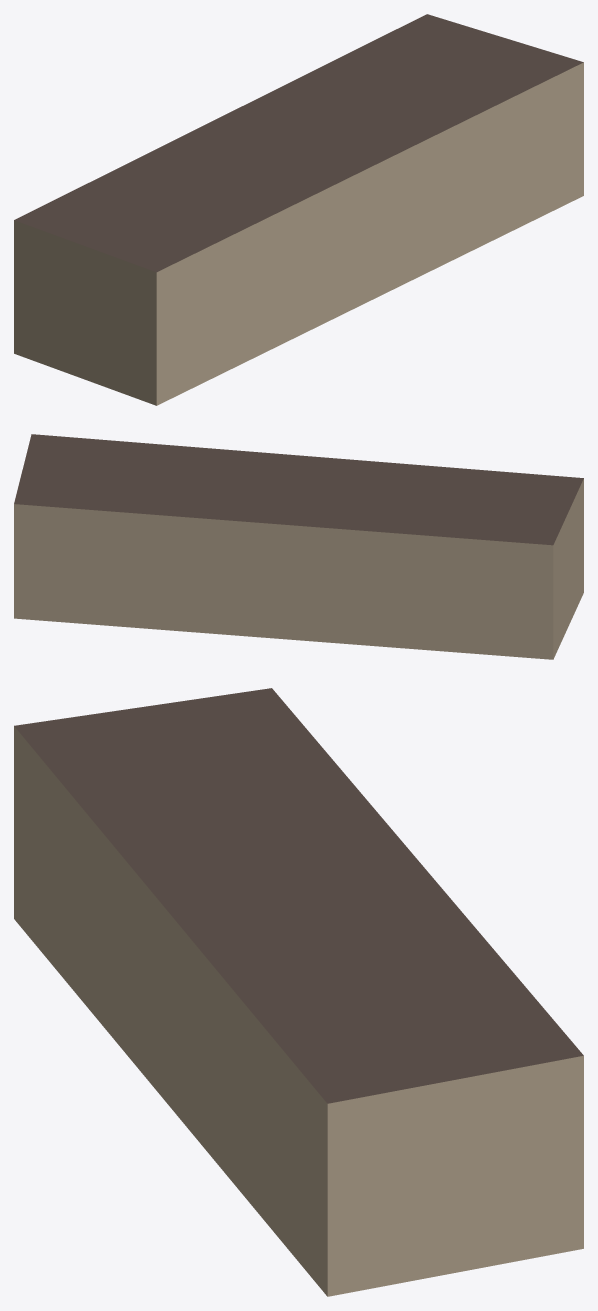
The picture shows the model from 3 angles, top to bottom: view 1: azimuth 30°, elevation 25°; view 2: azimuth 150°, elevation 25°; view 3: azimuth 270°, elevation 25°; orthographic projection. The views are drawn at different scales.
Visible parts, largest first — view 1: HP-w1516732800; view 2: HP-w1516732800; view 3: HP-w1516732800.
Part boxes in pixels (bbox=[...]): HP-w1516732800: bbox=[14, 14, 583, 405]; HP-w1516732800: bbox=[14, 434, 583, 659]; HP-w1516732800: bbox=[14, 688, 583, 1296].
Size of the model in its own units: 41.56 by 9 by 24.08.
